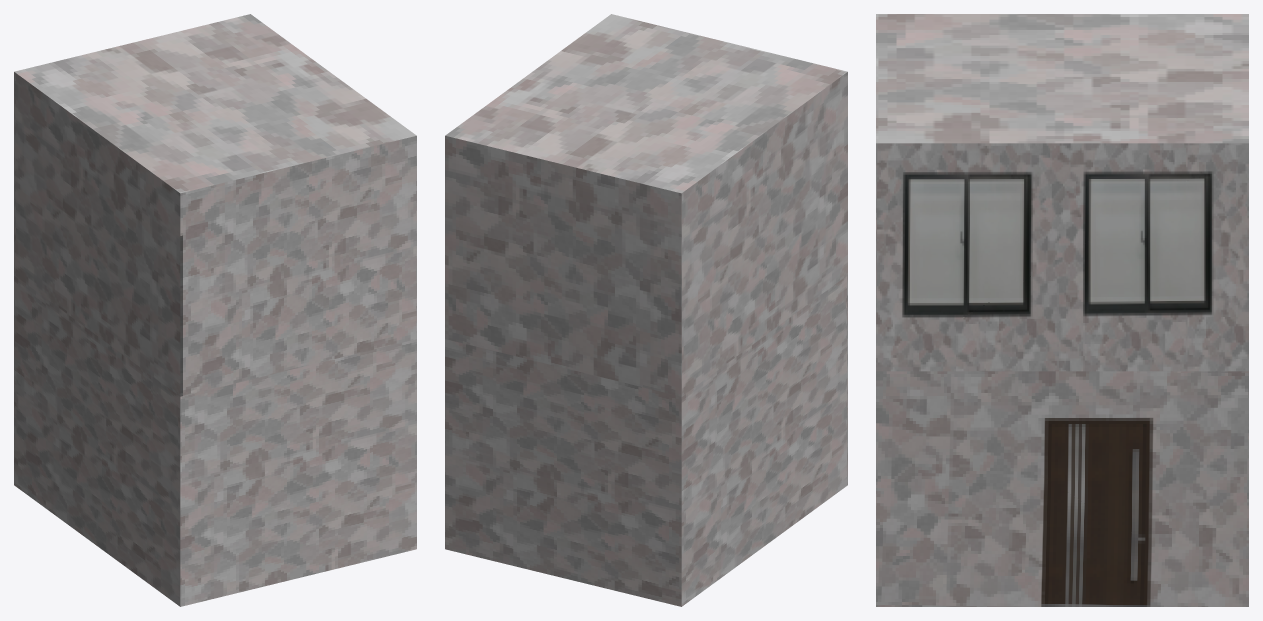
File: house 11.fbx
3 renders of one model, left to right at view 1: azimuth 30°, elevation 25°; view 2: azimuth 150°, elevation 25°; view 3: azimuth 270°, elevation 25°, orthographic. The views are drawn at different scales.
Parts seen in each view (by area): view 1: Cube; view 2: Cube; view 3: Cube.
Boxes of the visible parts, x1,y1,x2,y2 form: Cube: [14, 14, 416, 606]; Cube: [445, 14, 847, 606]; Cube: [876, 14, 1248, 606].
Size of the model in its own units: 846 by 1413 by 1030.
